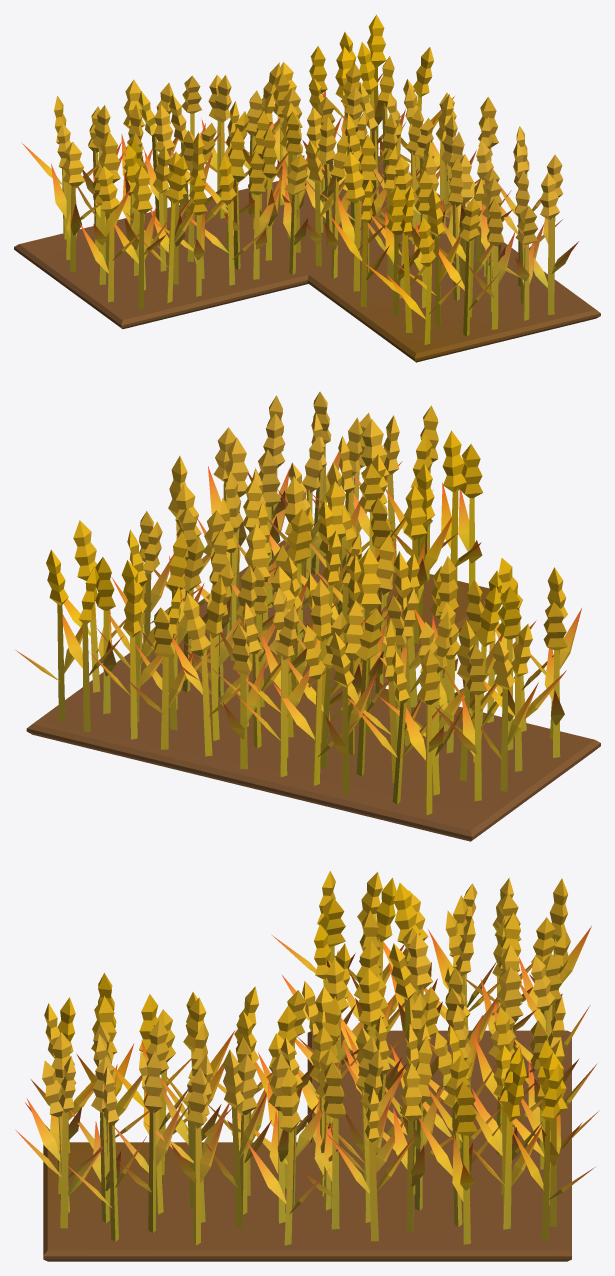
The model's file is Farm_Wheat_Corner.glb.
3 renders of one model, top to bottom at view 1: azimuth 30°, elevation 25°; view 2: azimuth 150°, elevation 25°; view 3: azimuth 270°, elevation 25°, orthographic. The views are drawn at different scales.
Parts seen in each view (by area): view 1: Farm_Wheat_Corner; view 2: Farm_Wheat_Corner; view 3: Farm_Wheat_Corner.
Part boxes in pixels (<box>): Farm_Wheat_Corner: <box>14,14,600,362</box>; Farm_Wheat_Corner: <box>16,391,600,841</box>; Farm_Wheat_Corner: <box>15,871,599,1261</box>.
Bounding box in the file's own units: 3.22 × 1.2 × 3.33.
